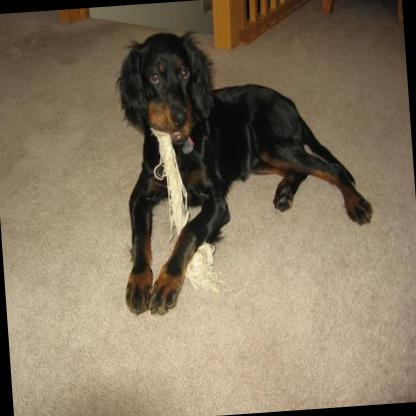Gordon_setter: (106, 15, 378, 326)
